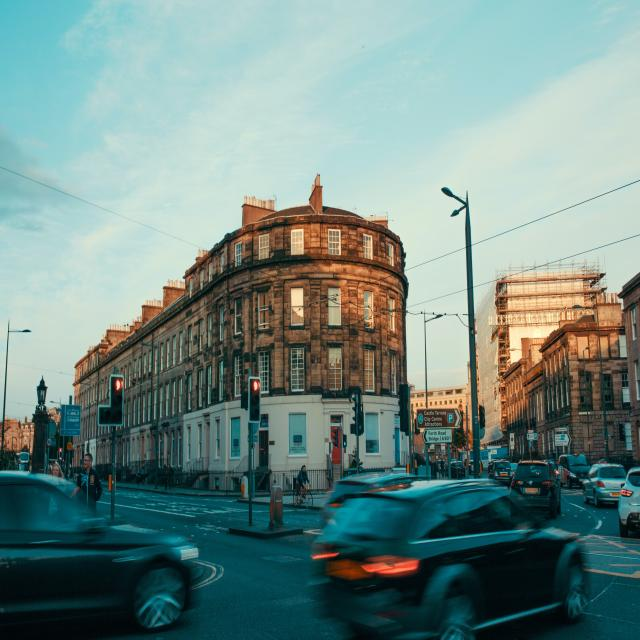Street Light: (441, 185, 481, 480), (1, 328, 32, 479), (425, 314, 443, 480), (50, 400, 65, 476)
